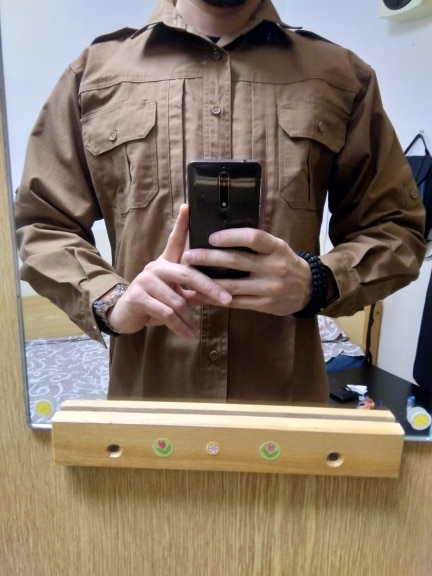shirts: (15, 2, 424, 405)
